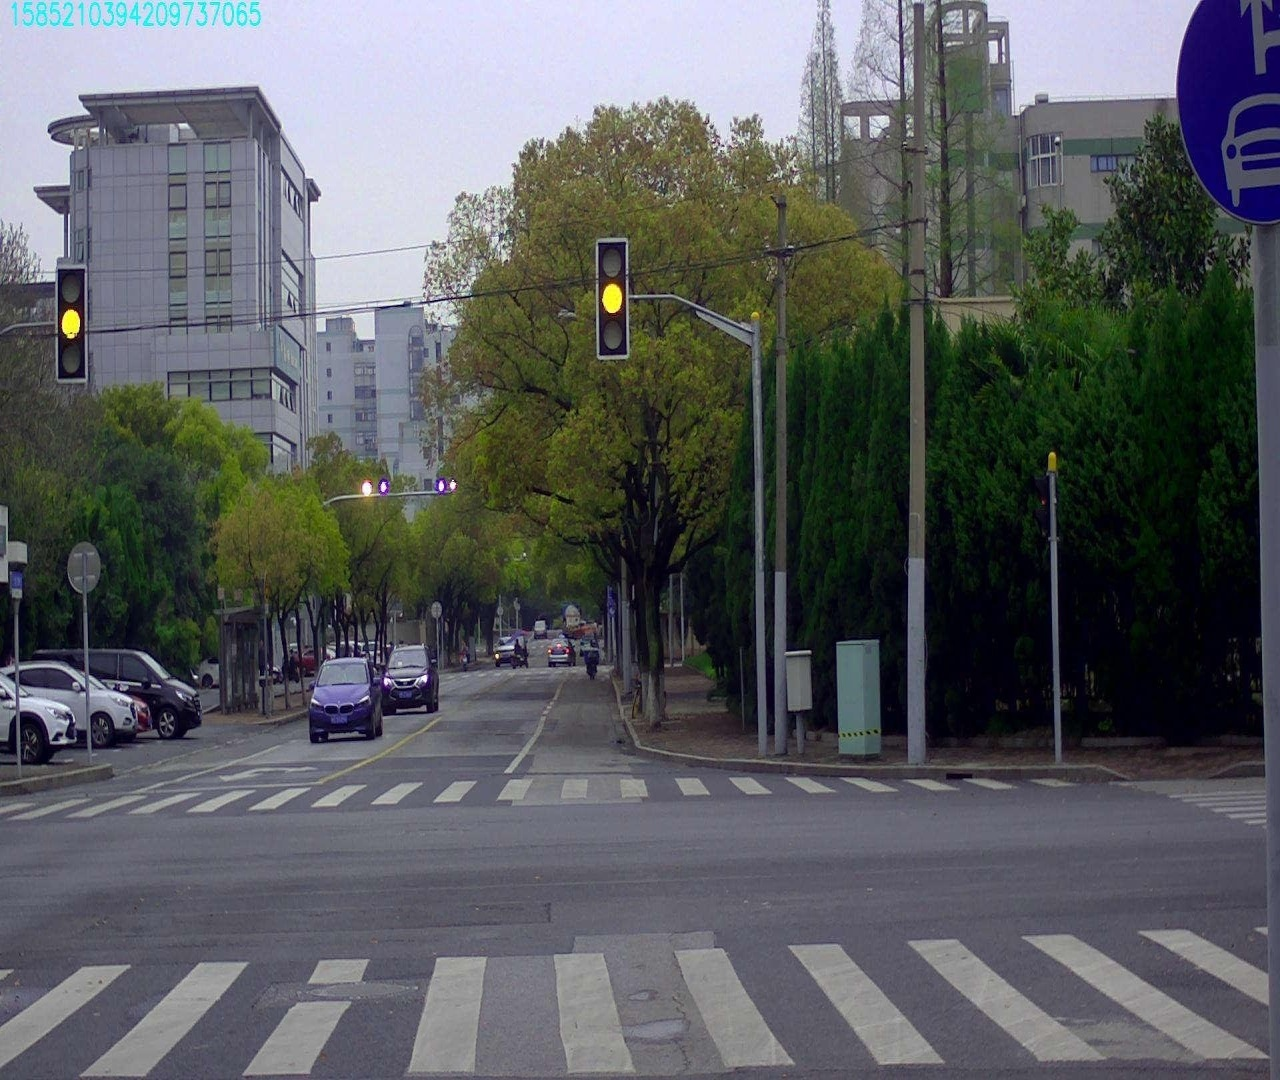yellow: (598, 242, 627, 358), (58, 270, 86, 382)
